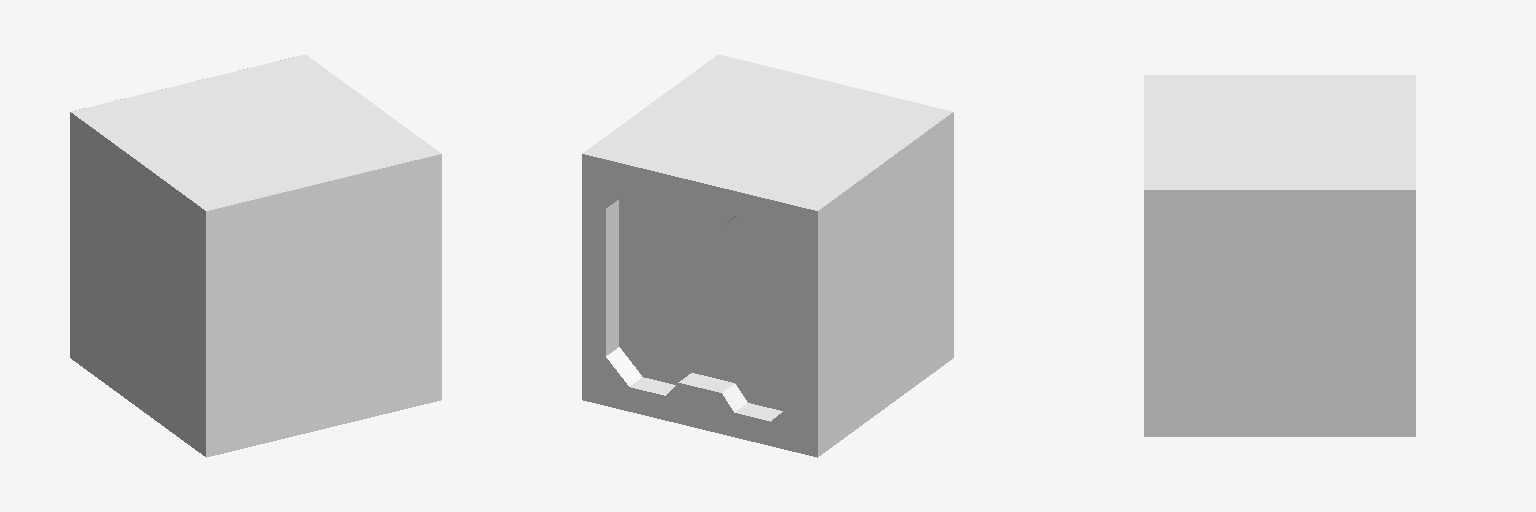
Rendered from rustedbot.obj.
3 views of the same model, side by side, from view 1: azimuth 30°, elevation 25°; view 2: azimuth 150°, elevation 25°; view 3: azimuth 270°, elevation 25° (orthographic).
Visible parts, largest first — view 1: g0; view 2: g0; view 3: g0.
Part boxes in pixels (left/top/right/bottom): g0: left=70, top=54, right=441, bottom=457; g0: left=582, top=54, right=953, bottom=457; g0: left=1144, top=75, right=1415, bottom=436.
Size of the model in its own units: 1 by 1 by 1.